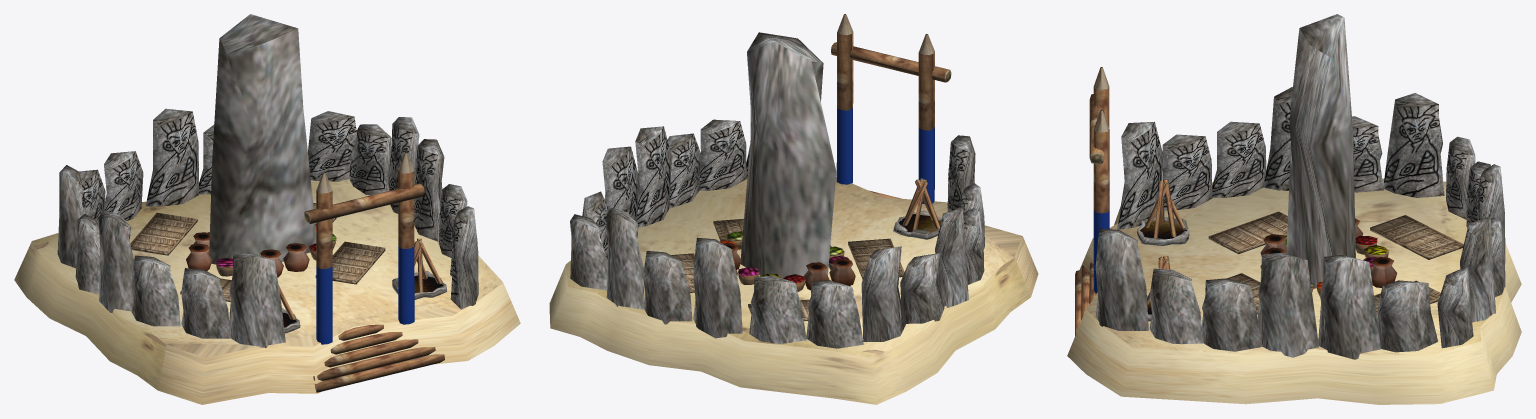
Rendered from temple.dae.
3 renders of one model, left to right at view 1: azimuth 30°, elevation 25°; view 2: azimuth 150°, elevation 25°; view 3: azimuth 270°, elevation 25°, orthographic. The views are drawn at different scales.
Visible parts, largest first — view 1: temple; view 2: temple; view 3: temple.
Boxes of the visible parts, box(x1,y1,x2,y2) form: temple: box(14, 14, 520, 404); temple: box(549, 14, 1038, 404); temple: box(1067, 14, 1521, 404).
Bounding box in the file's own units: 21.02 × 21.24 × 15.09.
